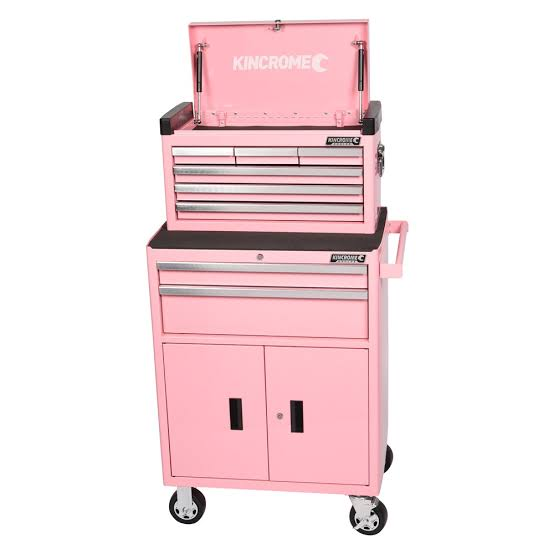Carts: (139, 230, 406, 539)
